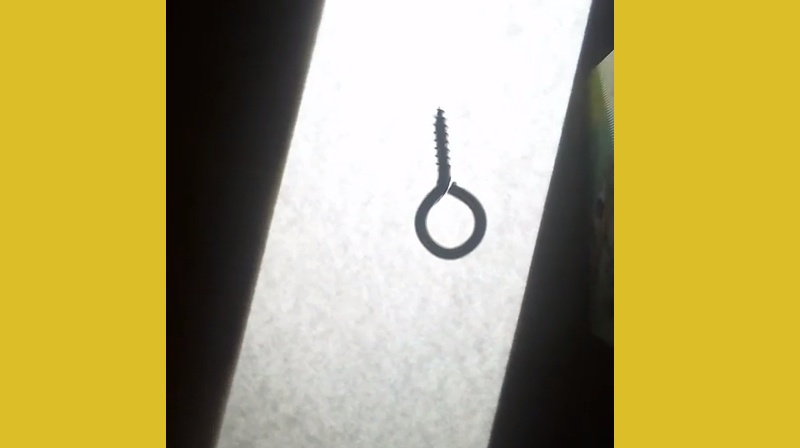O001: (412, 101, 488, 263)
